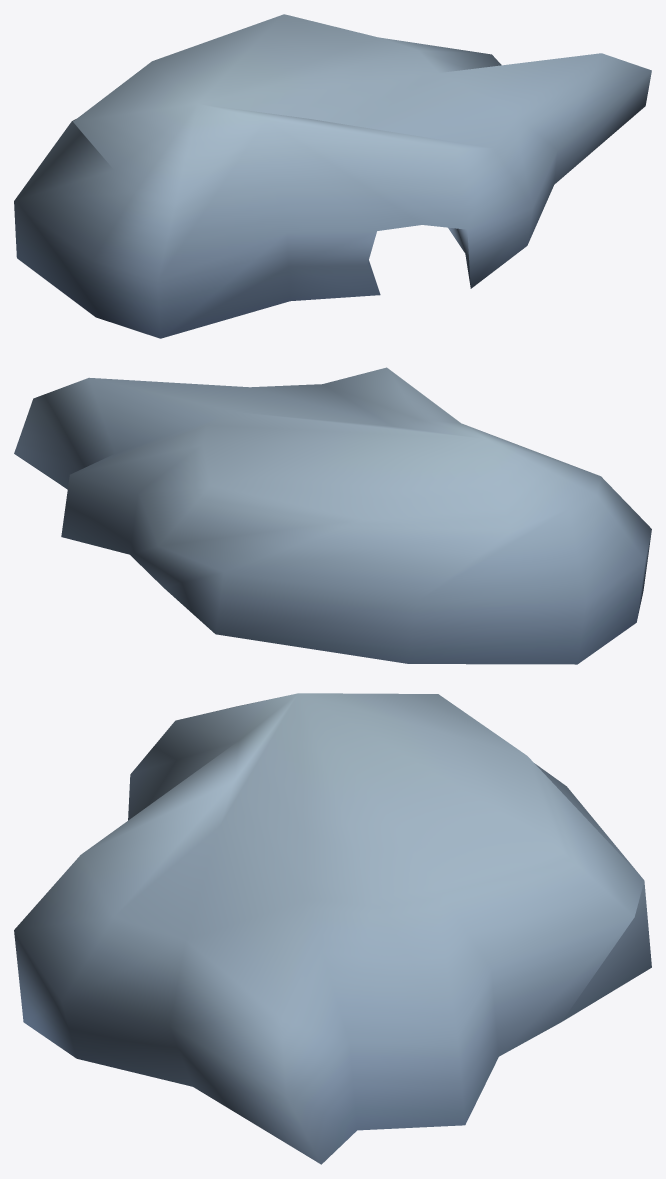
The model's file is boulder_house.fbx.
The picture shows the model from 3 angles, top to bottom: view 1: azimuth 30°, elevation 25°; view 2: azimuth 150°, elevation 25°; view 3: azimuth 270°, elevation 25°; orthographic projection. The views are drawn at different scales.
Parts seen in each view (by area): view 1: boulder_house; view 2: boulder_house; view 3: boulder_house.
Boxes of the visible parts, x1=… form: boulder_house: x1=14, y1=14, x2=651, y2=338; boulder_house: x1=14, y1=367, x2=651, y2=664; boulder_house: x1=14, y1=693, x2=651, y2=1164.
Size of the model in its own units: 0.0162 by 0.00439 by 0.0109.
1 material, 1 textured.
